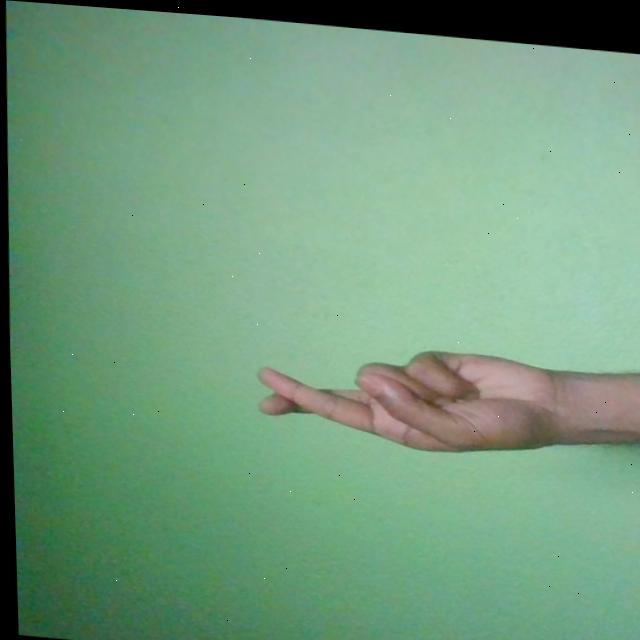Good Luck: (248, 328, 567, 453)
